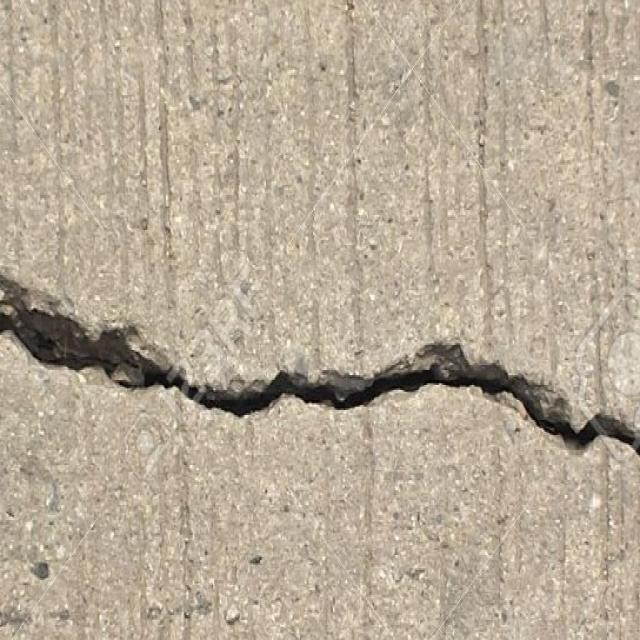Transverse: (0, 263, 640, 465)
